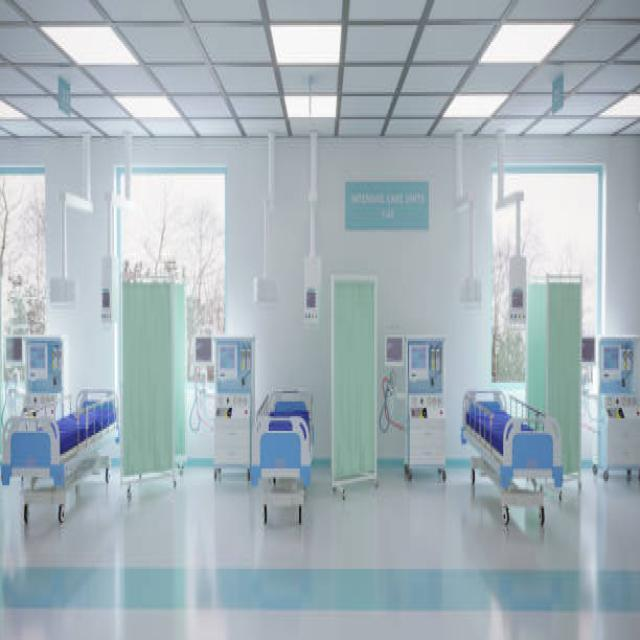Monitor: (184, 324, 239, 412), (3, 324, 51, 385), (379, 320, 408, 395)
bed: (0, 387, 118, 525), (460, 387, 563, 527), (251, 385, 314, 527)
